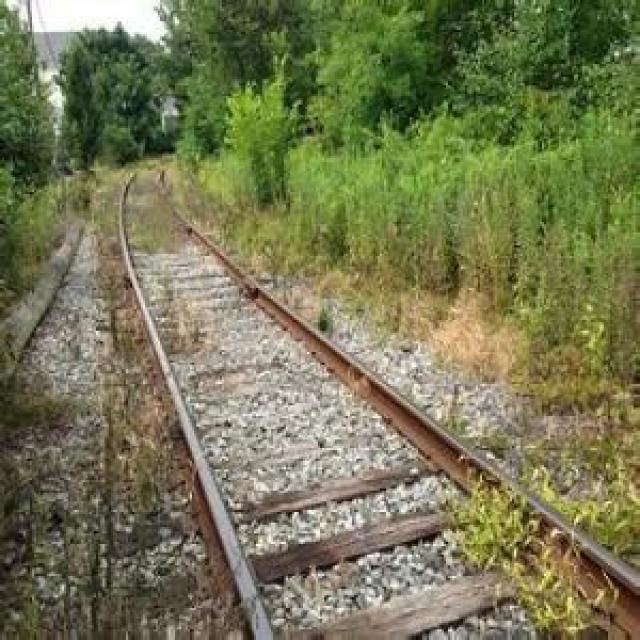rail: (110, 150, 639, 640)
